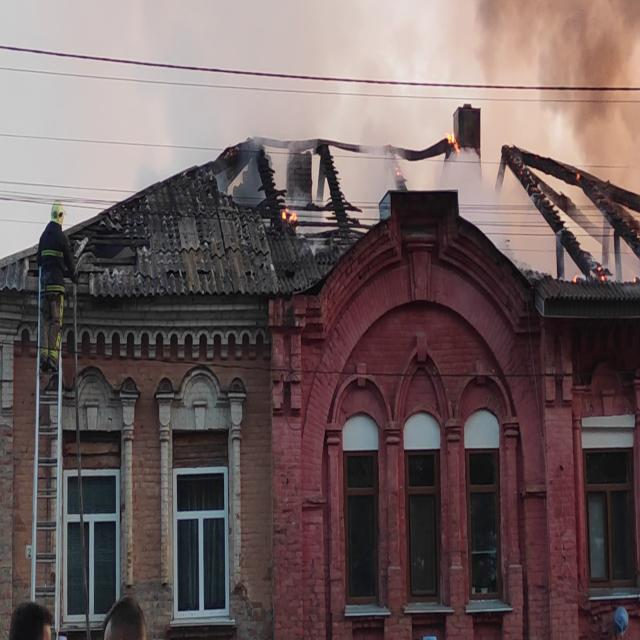fire: (438, 130, 466, 180)
smoke: (485, 6, 640, 155)
